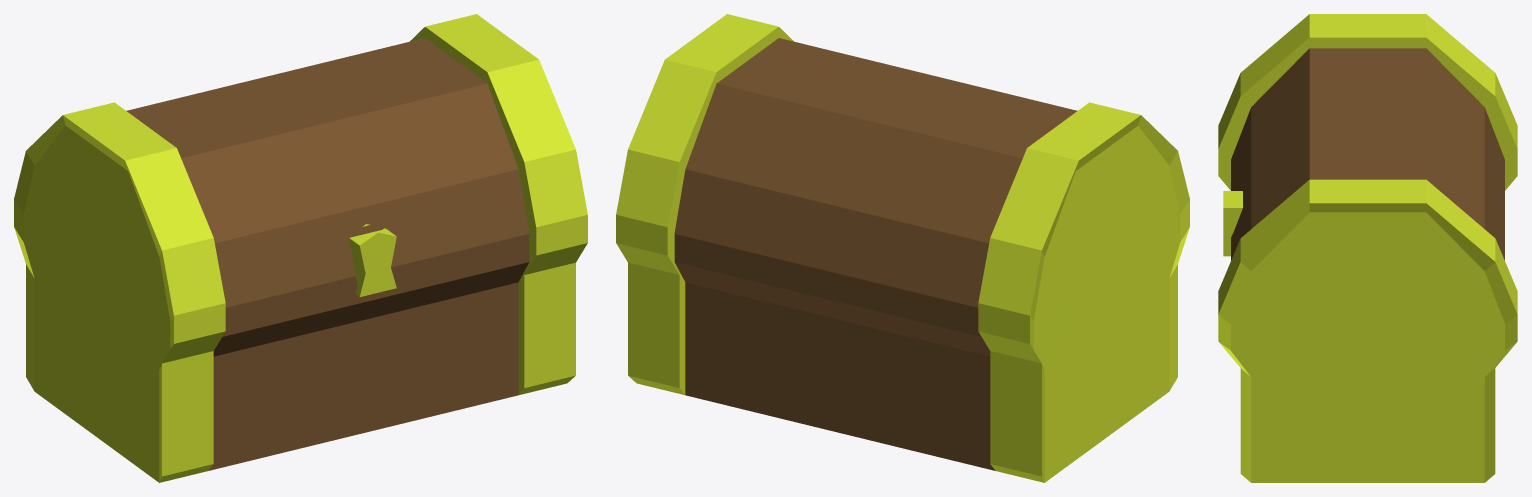
The model's file is chest.fbx.
3 views of the same model, side by side, from view 1: azimuth 30°, elevation 25°; view 2: azimuth 150°, elevation 25°; view 3: azimuth 270°, elevation 25° (orthographic). The views are drawn at different scales.
Parts seen in each view (by area): view 1: Сундук, Замок; view 2: Сундук; view 3: Сундук, Замок.
Part boxes in pixels (x1,y1,x2,y2): Сундук: (14,14,587,482); Замок: (349,224,396,296); Сундук: (616,14,1189,482); Сундук: (1218,14,1517,482); Замок: (1223,191,1243,256).
Bounding box in the file's own units: 383 × 266 × 256.
